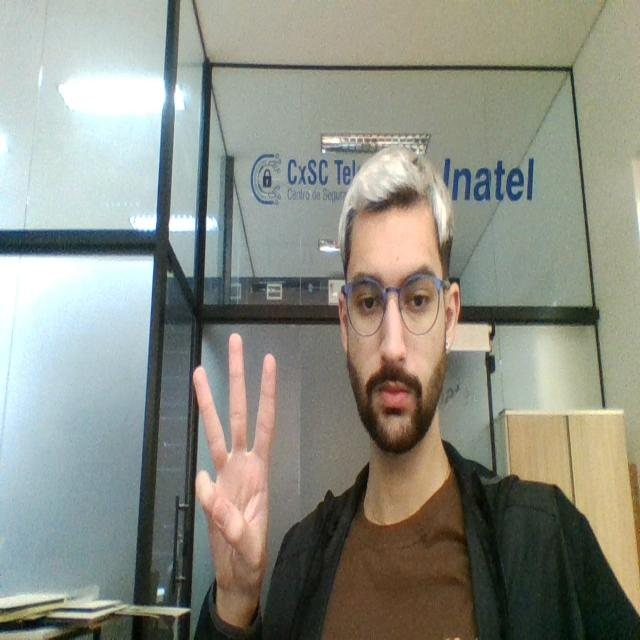W: (185, 323, 280, 598)
